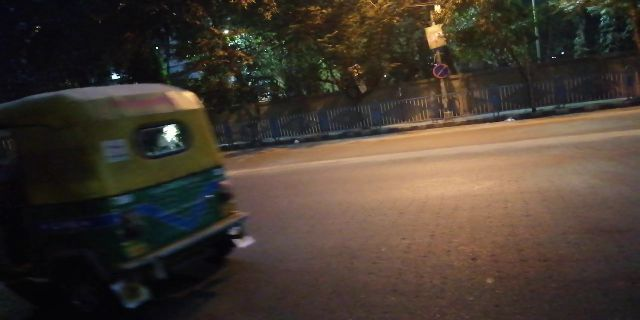Autorickshaw: (20, 80, 246, 282)
